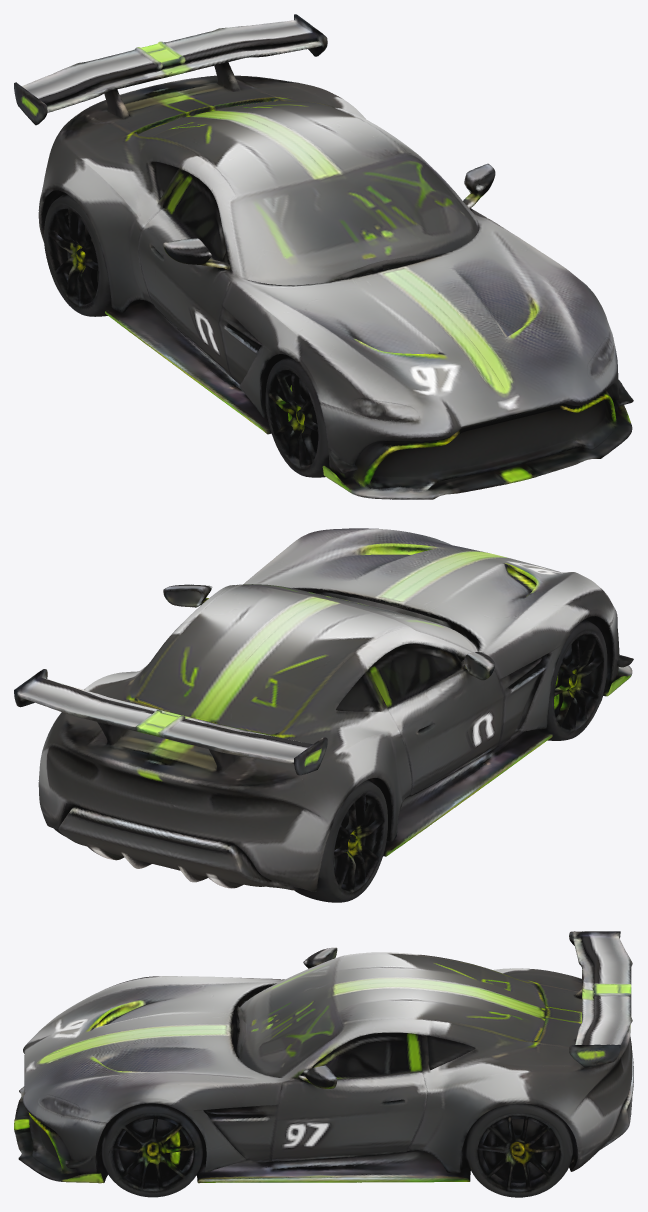
Rendered from compressed-base_basic_shaded.glb.
The picture shows the model from 3 angles, top to bottom: view 1: azimuth 30°, elevation 25°; view 2: azimuth 150°, elevation 25°; view 3: azimuth 270°, elevation 25°; orthographic projection. The views are drawn at different scales.
Parts seen in each view (by area): view 1: model; view 2: model; view 3: model.
Boxes of the visible parts, bbox=[...] form: model: bbox=[14, 14, 633, 499]; model: bbox=[14, 528, 633, 902]; model: bbox=[14, 931, 633, 1197].
Size of the model in its own units: 0.9081 by 0.5181 by 1.8.
Materials: 1 (1 with a texture image).
